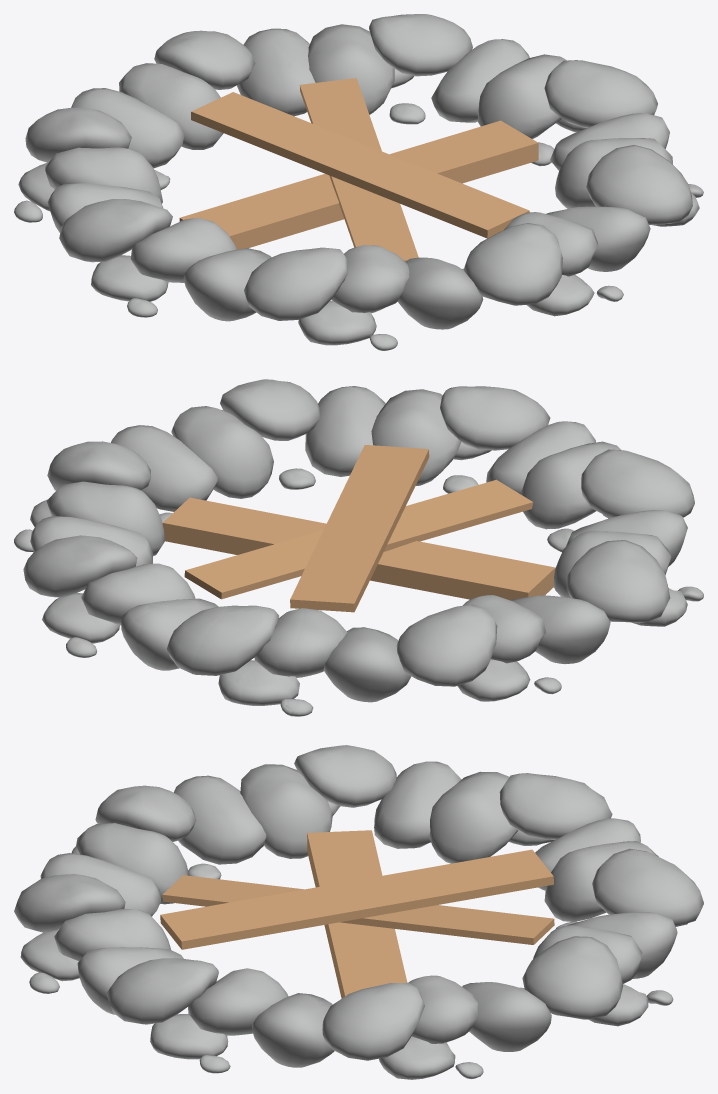
The model's file is FOGATAAAAAAAAA.fbx.
The picture shows the model from 3 angles, top to bottom: view 1: azimuth 30°, elevation 25°; view 2: azimuth 150°, elevation 25°; view 3: azimuth 270°, elevation 25°; orthographic projection.
Visible parts, largest first — view 1: Sphere.005; view 2: Sphere.005; view 3: Sphere.005.
Part boxes in pixels (x1=…): Sphere.005: x1=14, y1=14, x2=703, y2=350; Sphere.005: x1=14, y1=379, x2=703, y2=716; Sphere.005: x1=14, y1=745, x2=703, y2=1079.
Bounding box in the file's own units: 209 × 25.98 × 209.
